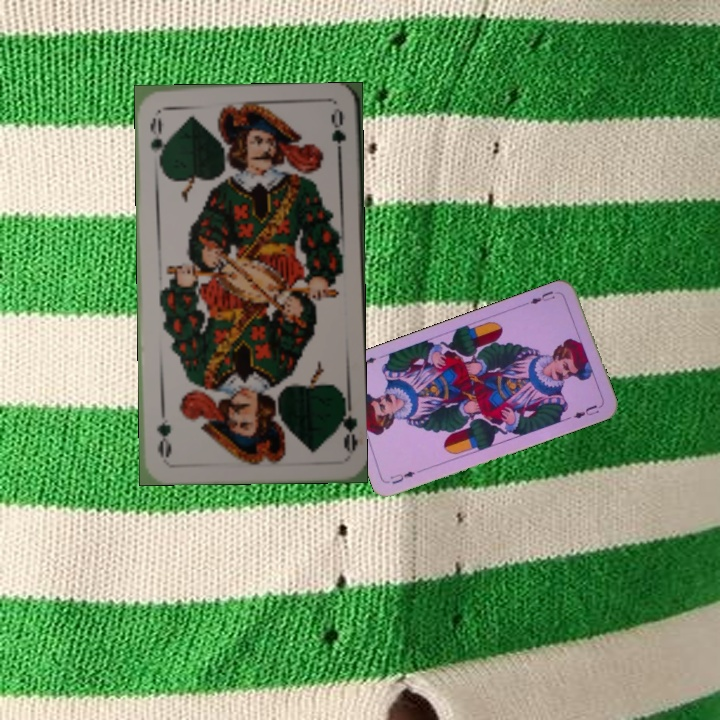EU: (522, 287, 558, 308), (386, 467, 418, 487)
GO: (331, 397, 359, 456), (145, 114, 169, 169)
